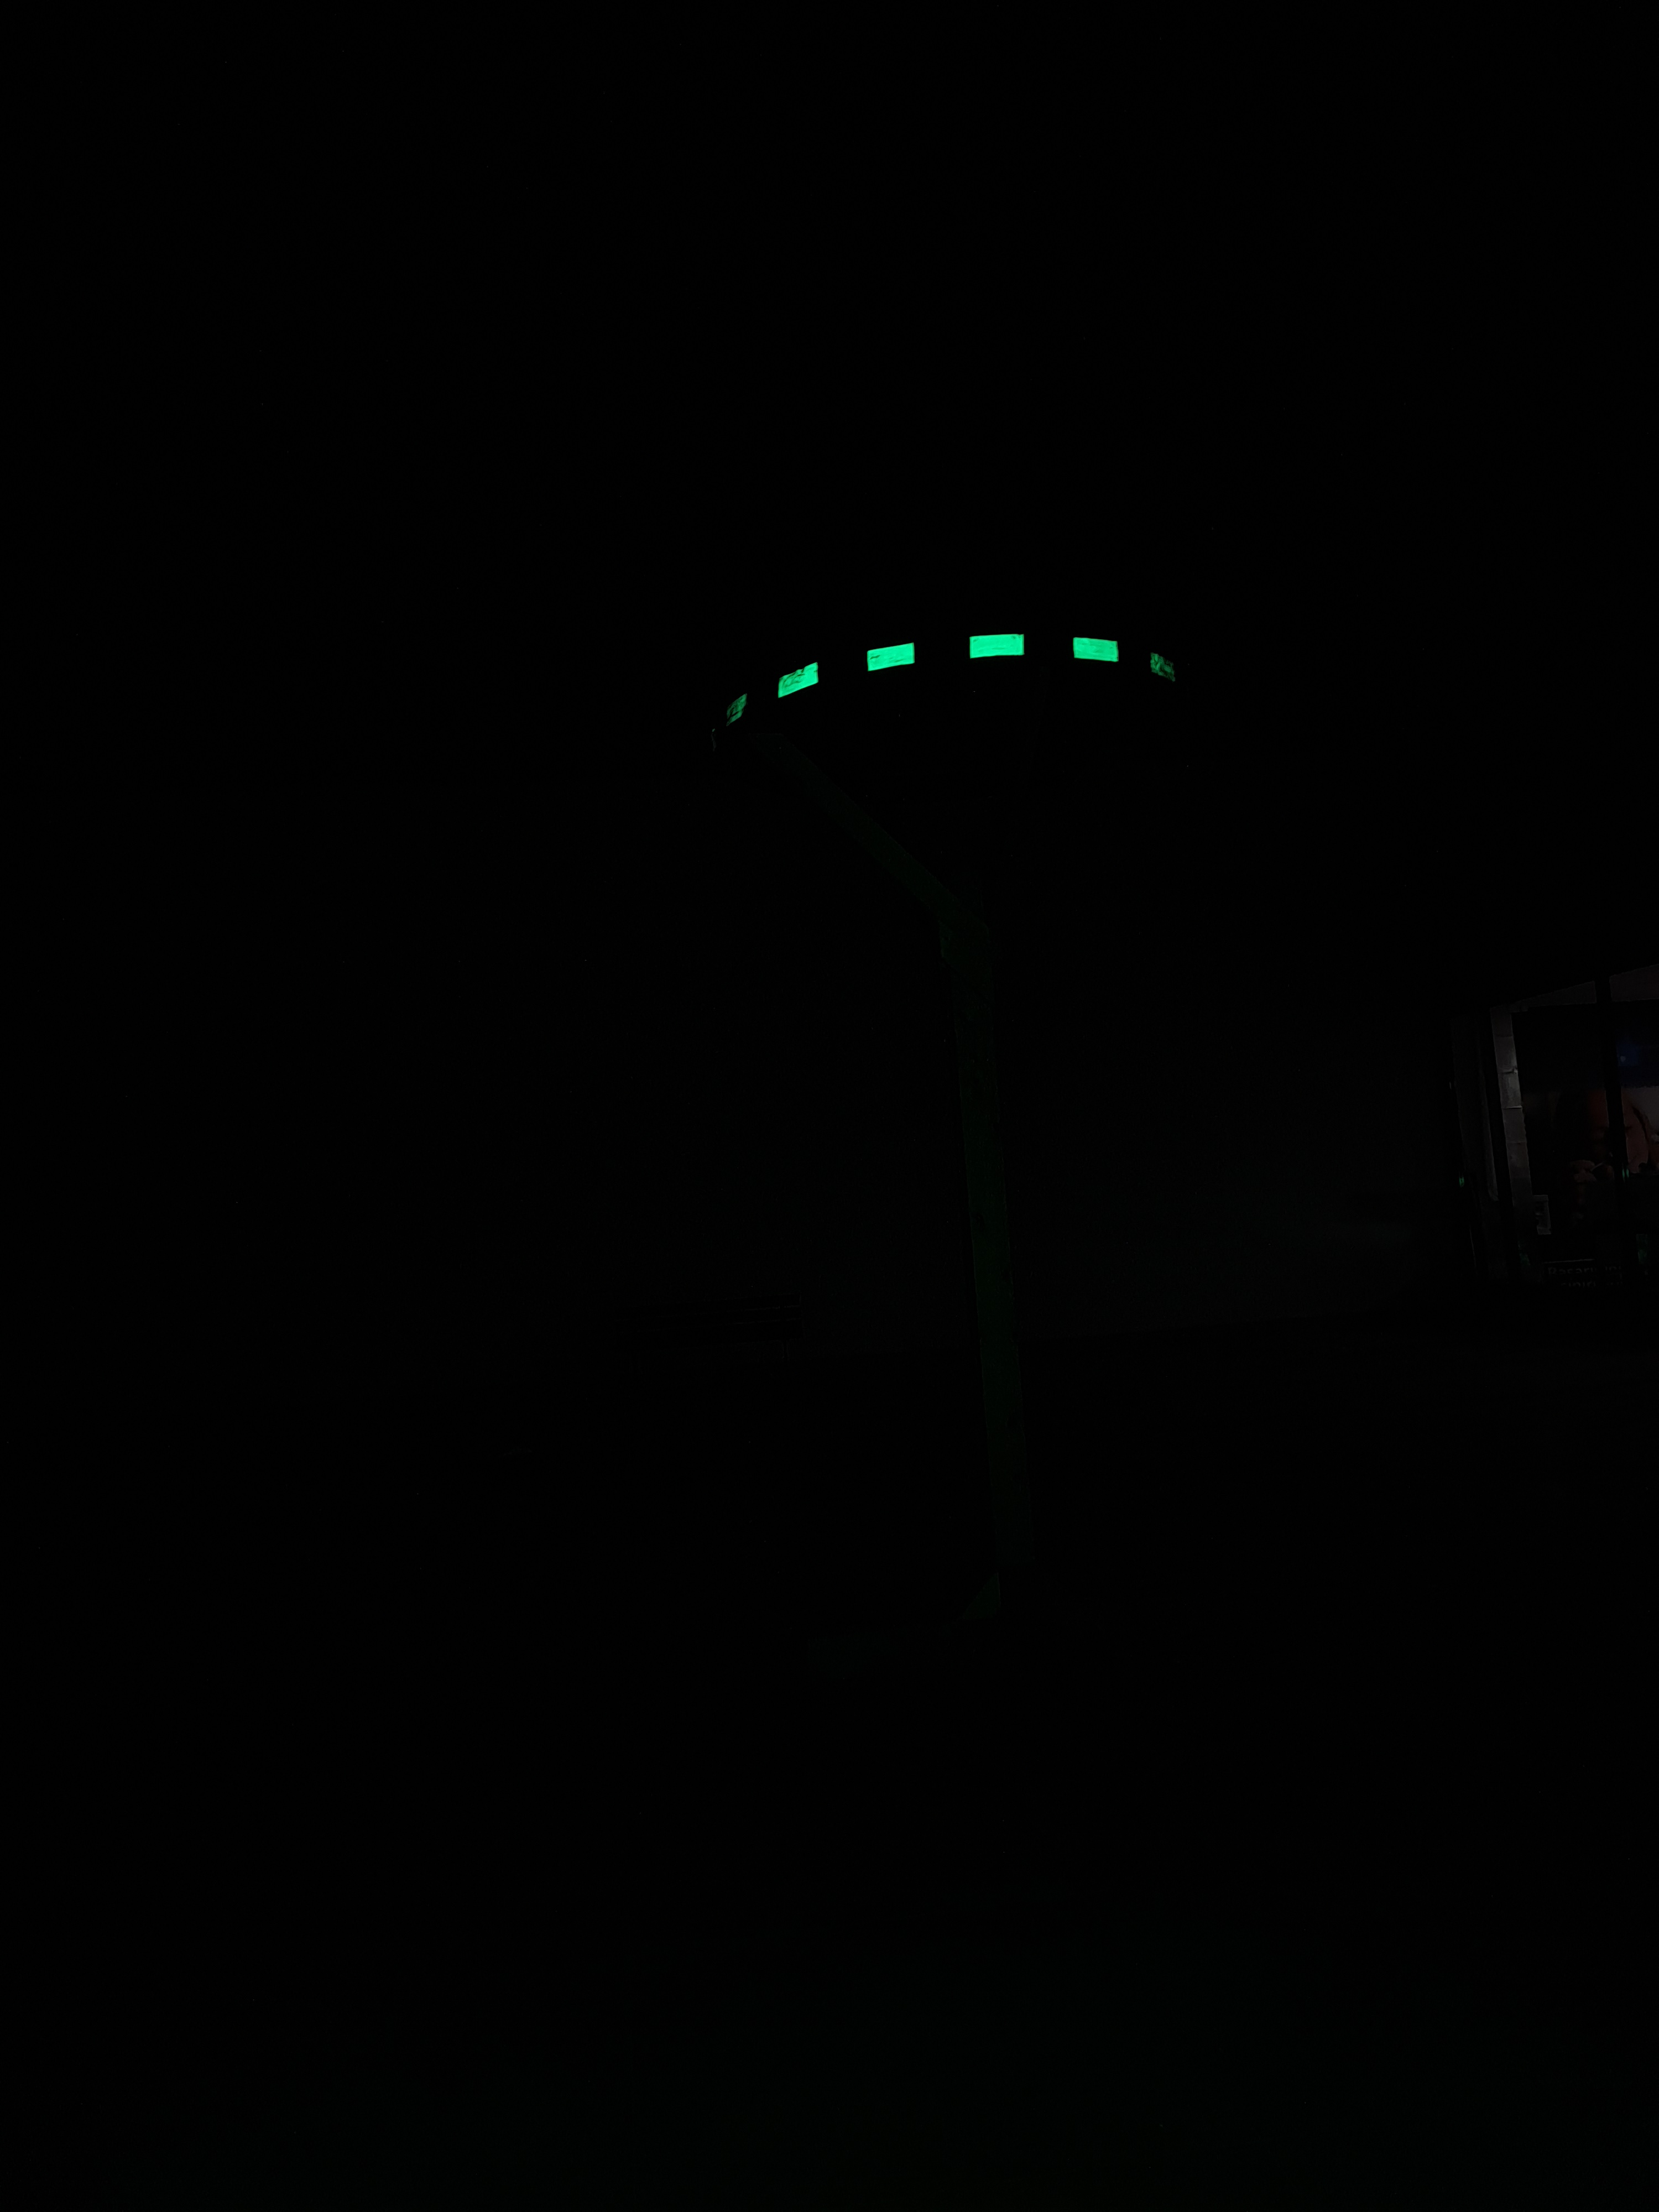hoop: (708, 589, 1223, 744)
